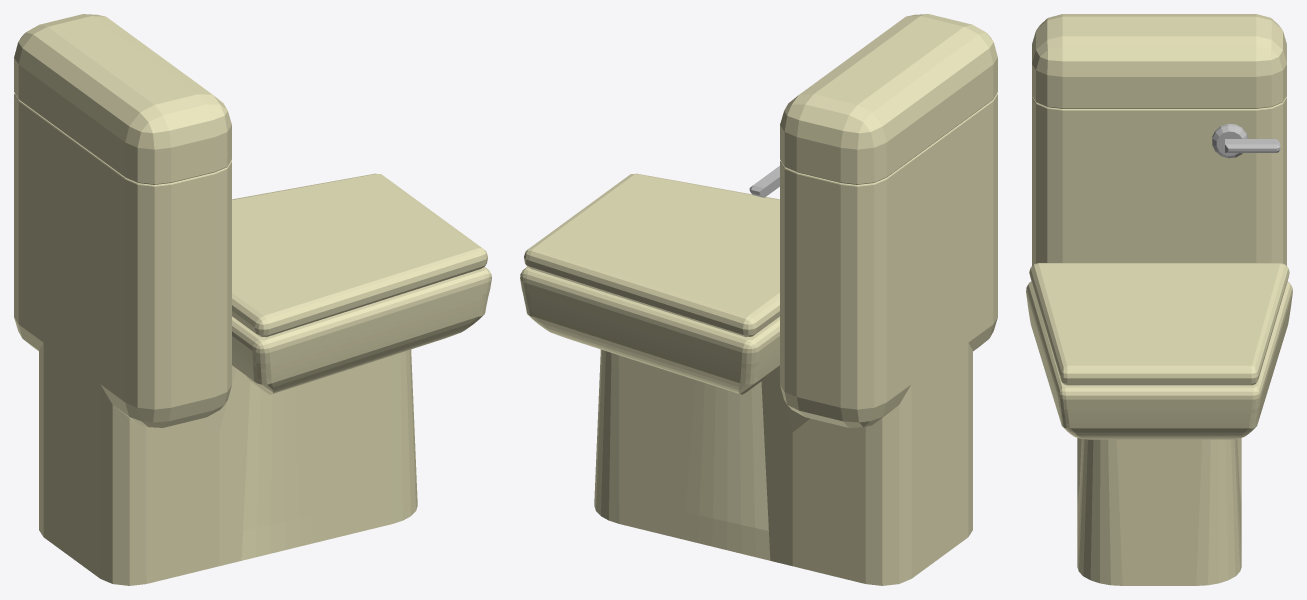
File: klozetyuzduzelt.fbx
3 views of the same model, side by side, from view 1: azimuth 30°, elevation 25°; view 2: azimuth 150°, elevation 25°; view 3: azimuth 270°, elevation 25° (orthographic). The views are drawn at different scales.
Parts seen in each view (by area): view 1: Cube, Cube.001; view 2: Cube, Cube.001; view 3: Cube, Cube.001.
Boxes of the visible parts, x1,y1,x2,y2 form: Cube: (14, 93, 491, 585); Cube.001: (14, 14, 231, 184); Cube: (520, 93, 997, 585); Cube.001: (780, 14, 997, 184); Cube: (1026, 96, 1292, 585); Cube.001: (1032, 14, 1286, 108).
Bounding box in the file's own units: 469 × 591 × 324.
